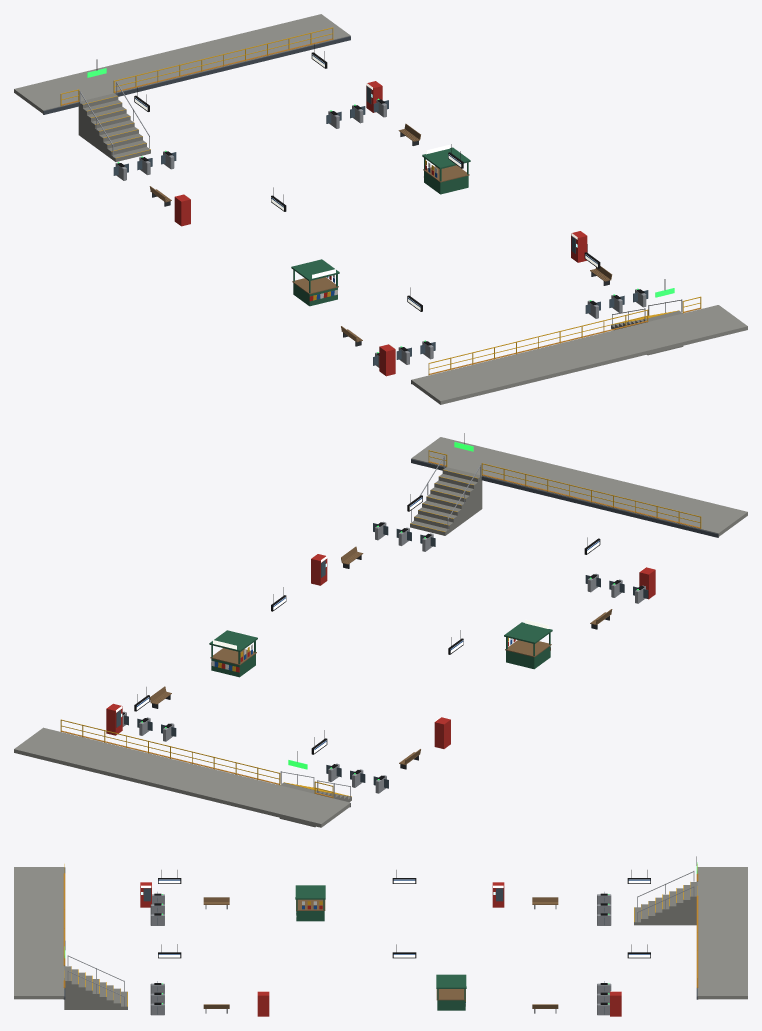
File: ug-fittings.glb
The picture shows the model from 3 angles, top to bottom: view 1: azimuth 30°, elevation 25°; view 2: azimuth 150°, elevation 25°; view 3: azimuth 270°, elevation 25°; orthographic projection. The views are drawn at different scales.
Visible parts, largest first — view 1: ug-fittings; view 2: ug-fittings; view 3: ug-fittings.
Part boxes in pixels (x1,y1,x2,y2): ug-fittings: [14, 14, 747, 404]; ug-fittings: [14, 433, 747, 827]; ug-fittings: [14, 856, 747, 1016].
Bounding box in the file's own units: 26 × 5.8 × 62.5.
